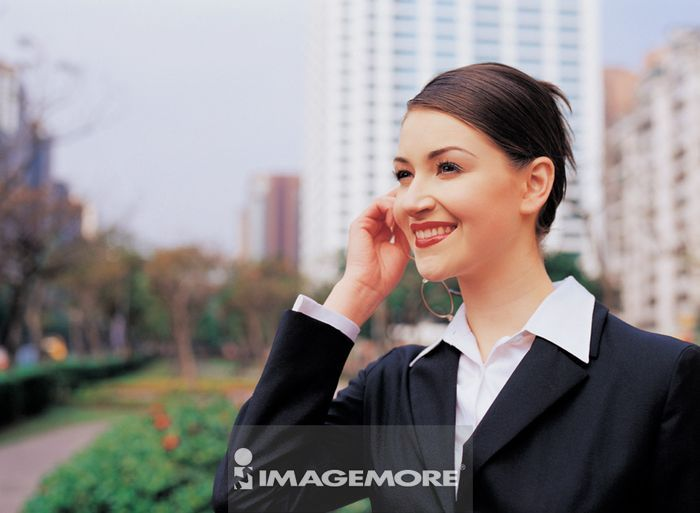talk: (341, 140, 491, 303)
